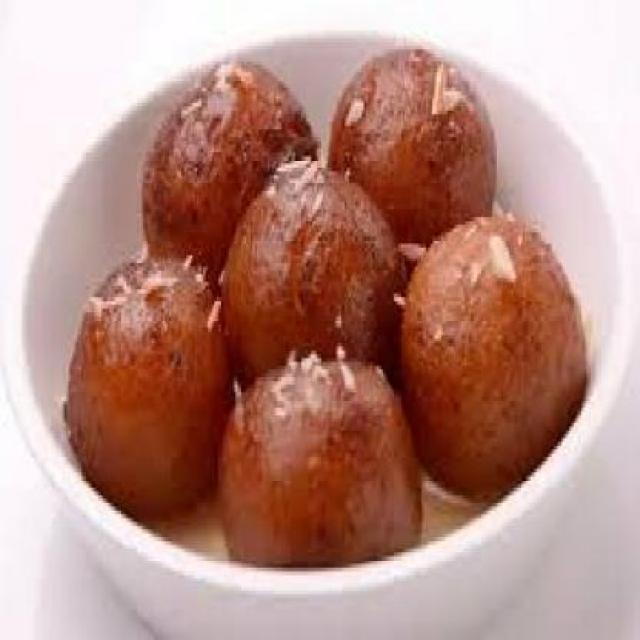gulab_jamun: (400, 217, 586, 505), (142, 64, 318, 318), (68, 259, 235, 523), (220, 160, 406, 395), (220, 363, 423, 568), (328, 48, 497, 286)
